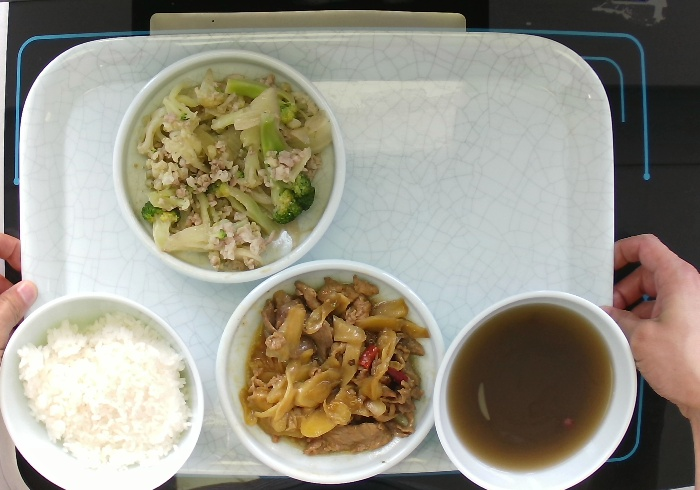JYsf-Fan_Wan: (431, 288, 639, 490), (1, 289, 207, 490)
JYsf-Xiao_Yuan_Pan: (110, 47, 348, 286), (213, 257, 449, 486)
